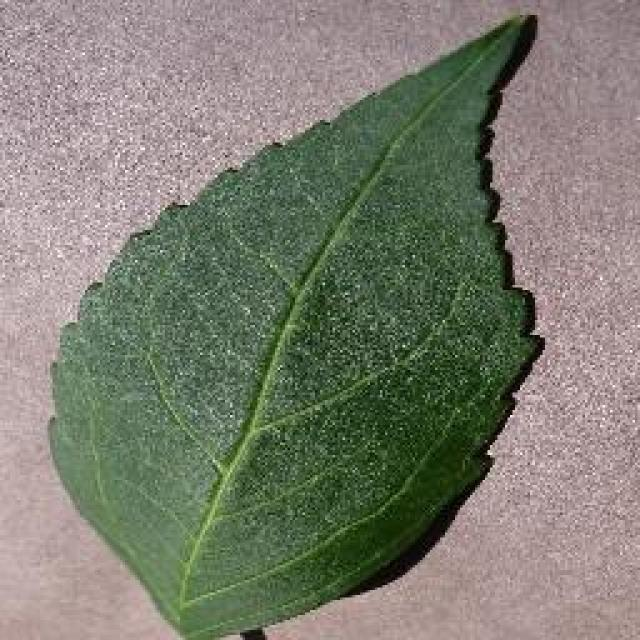Cherry___healthy: (32, 10, 560, 640)
